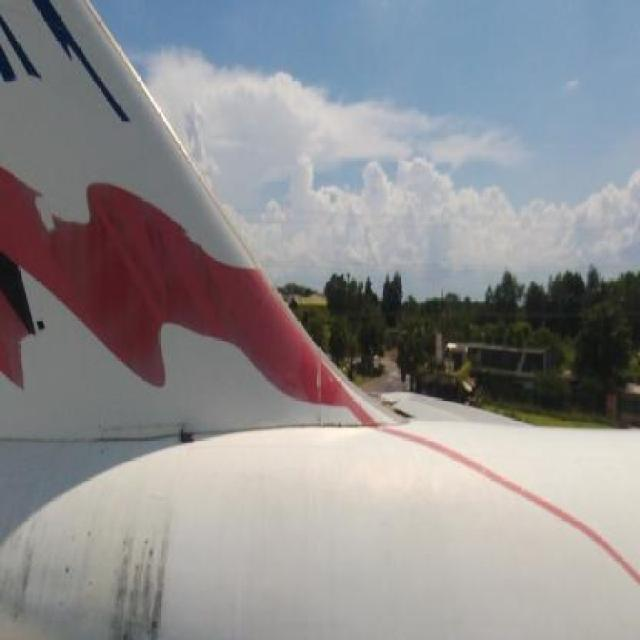Rust: (2, 460, 242, 640)
